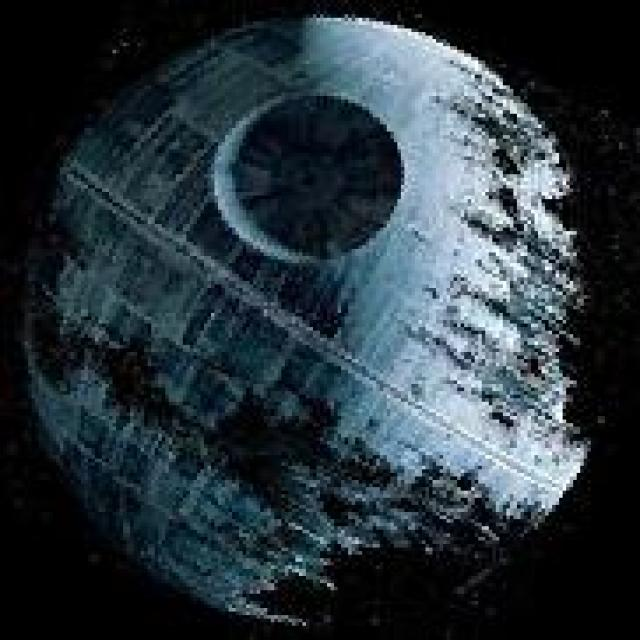Death Star: (10, 3, 605, 630)
